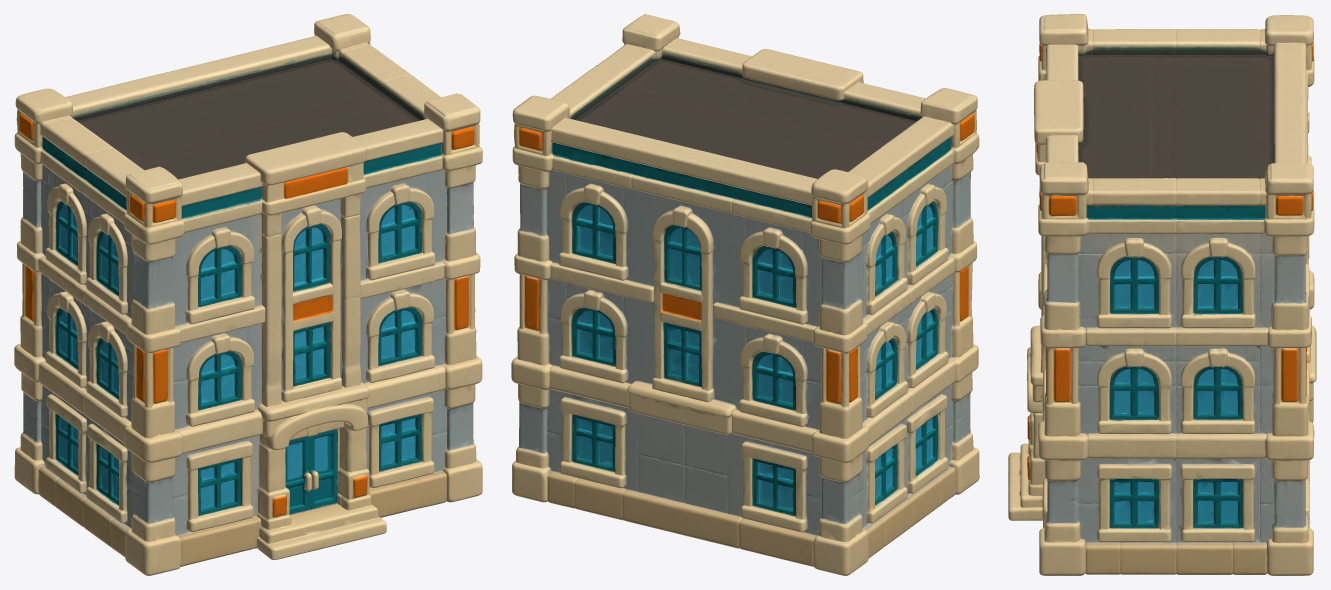
Rendered from StylizedBuilding.fbx.
3 renders of one model, left to right at view 1: azimuth 30°, elevation 25°; view 2: azimuth 150°, elevation 25°; view 3: azimuth 270°, elevation 25°, orthographic. The views are drawn at different scales.
Parts seen in each view (by area): view 1: tripo_node_02daf2ae-df28-423d-bfe5-b0db39074b21; view 2: tripo_node_02daf2ae-df28-423d-bfe5-b0db39074b21; view 3: tripo_node_02daf2ae-df28-423d-bfe5-b0db39074b21.
Boxes of the visible parts, x1,y1,x2,y2 form: tripo_node_02daf2ae-df28-423d-bfe5-b0db39074b21: (14,14,482,575); tripo_node_02daf2ae-df28-423d-bfe5-b0db39074b21: (511,14,979,575); tripo_node_02daf2ae-df28-423d-bfe5-b0db39074b21: (1008,14,1316,575).
Bounding box in the file's own units: 89.61 × 98.02 × 68.8.
Materials: 1 (1 with a texture image).
